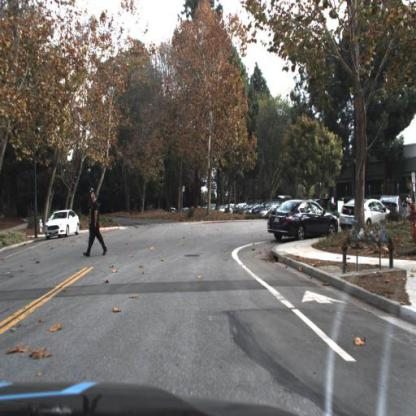car: (267, 197, 339, 242), (267, 198, 340, 240), (341, 198, 394, 232), (341, 198, 388, 227), (45, 206, 80, 242), (43, 208, 80, 241)
pedestrian: (82, 189, 108, 260)
